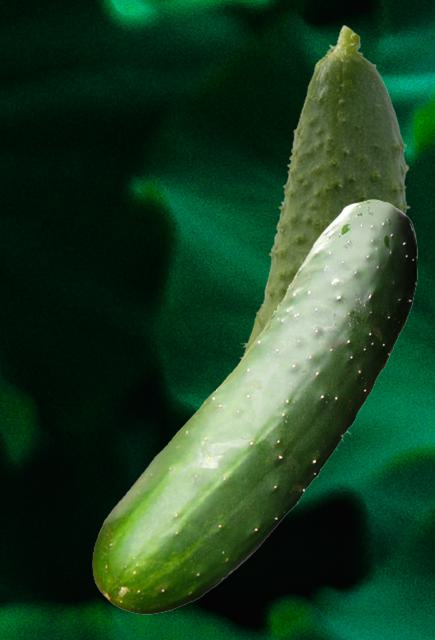cucumber: (92, 199, 416, 613), (237, 25, 409, 453)
